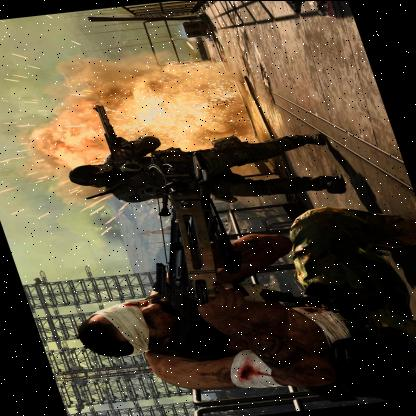rifle: (83, 104, 139, 172)
